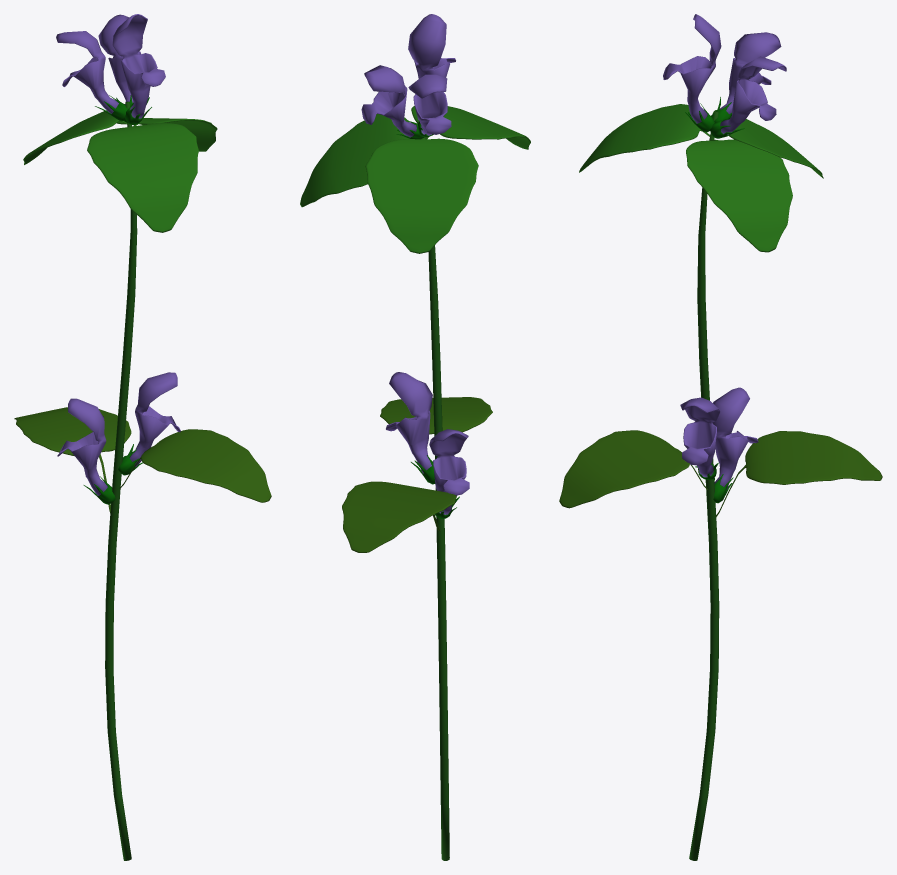
Rendered from Dead Nettles.fbx.
3 views of the same model, side by side, from view 1: azimuth 30°, elevation 25°; view 2: azimuth 150°, elevation 25°; view 3: azimuth 270°, elevation 25° (orthographic).
Visible parts, largest first — view 1: Joined Nettle; view 2: Joined Nettle; view 3: Joined Nettle.
Boxes of the visible parts, x1=… form: Joined Nettle: x1=14, y1=14, x2=271, y2=860; Joined Nettle: x1=300, y1=14, x2=530, y2=860; Joined Nettle: x1=559, y1=14, x2=882, y2=860.
Bounding box in the file's own units: 5.95 × 28.26 × 9.74.
